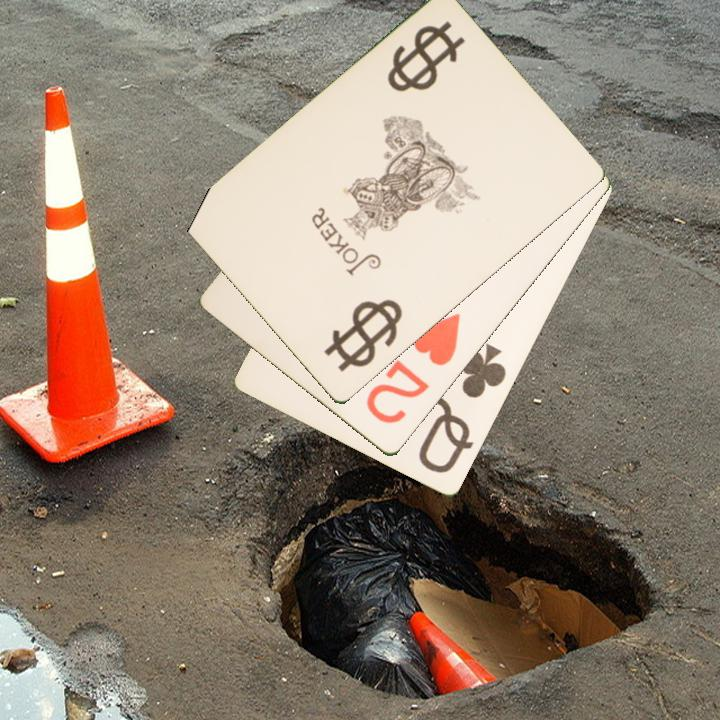2h: (362, 309, 464, 428)
JK: (383, 18, 469, 96), (336, 302, 400, 365)
Qc: (415, 340, 510, 477)
